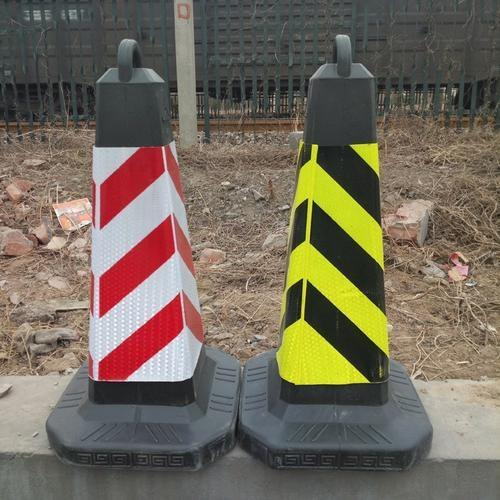cone_barrel: (243, 30, 425, 466), (55, 34, 224, 459)
